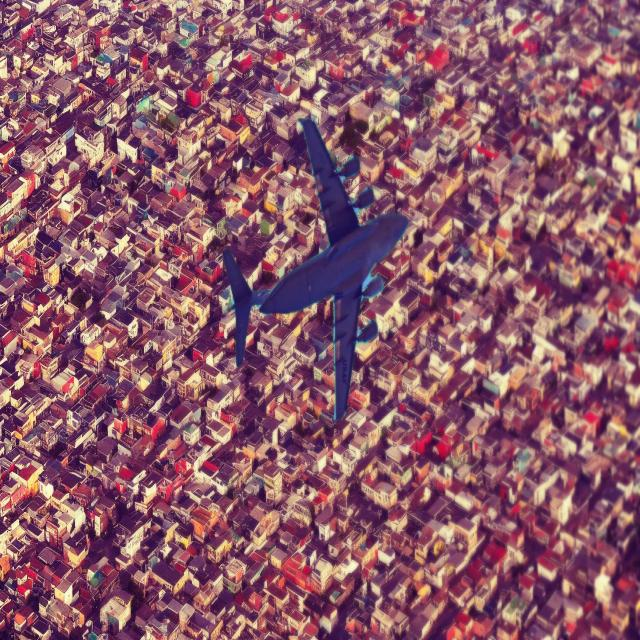airplane: (221, 113, 409, 424)
